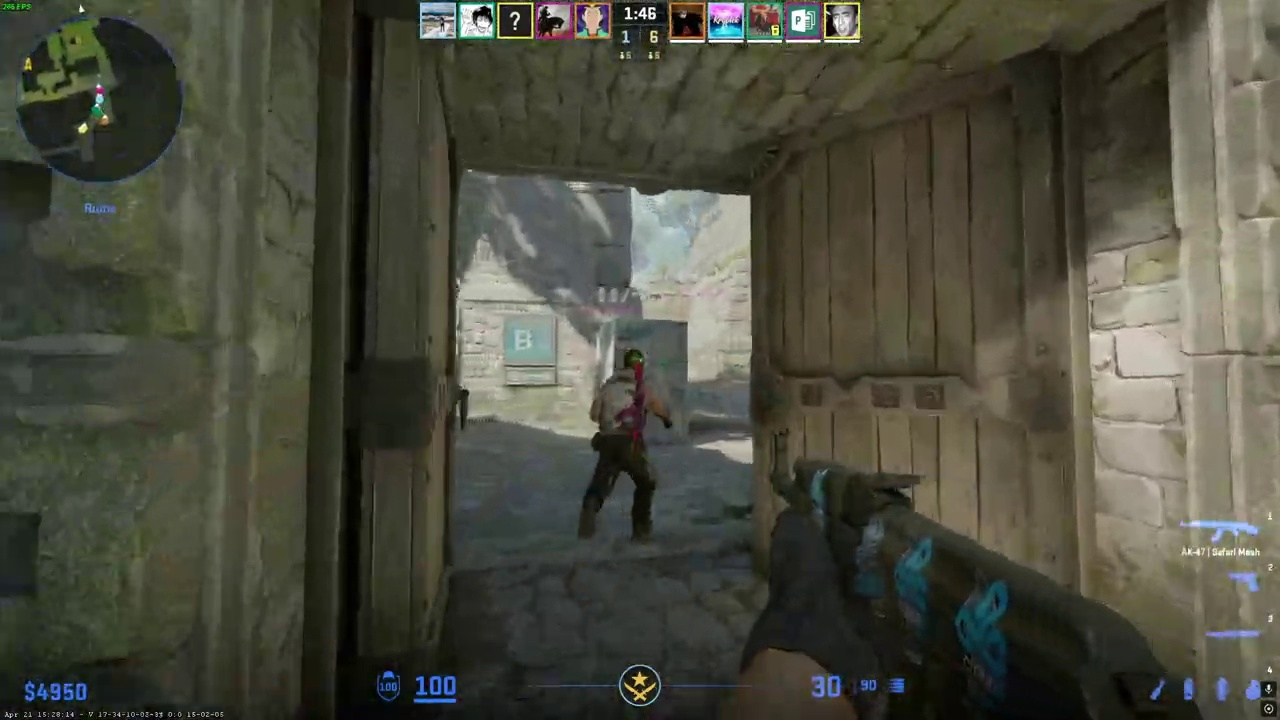Terrorist: (580, 349, 670, 542)
